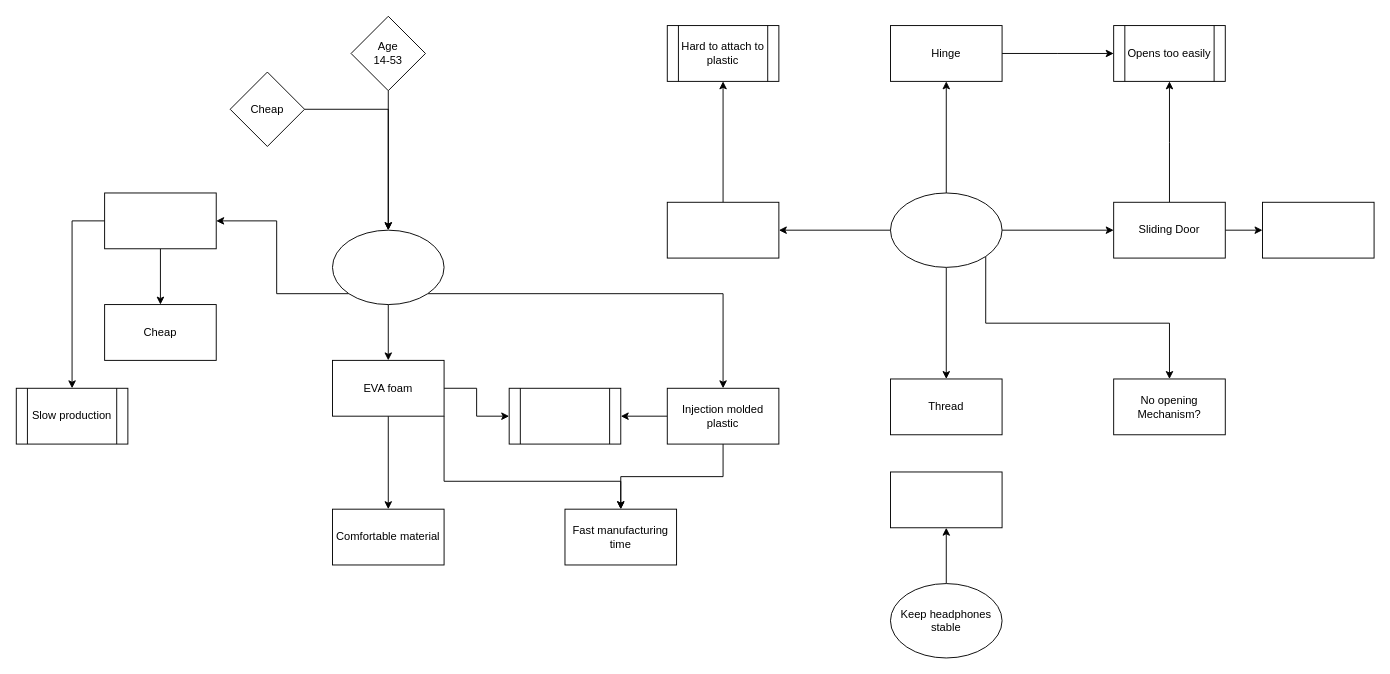
The diagram is 1390 pixels wide and 674 high, and some of its shapes have lost their labels. The box of each missing label's shape, as (x1, y1, x2, y2) in pixels:
Clip: (890, 471, 1002, 528)
Expensive initial cost: (508, 387, 621, 444)
Material: (332, 229, 444, 305)
Opening mechanism: (890, 192, 1002, 267)
PLA plastic: (104, 192, 216, 249)
Unorthodox: (1262, 201, 1374, 258)
Zipper: (666, 201, 779, 258)
